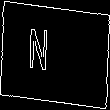N_S: (44, 28, 66, 82)
